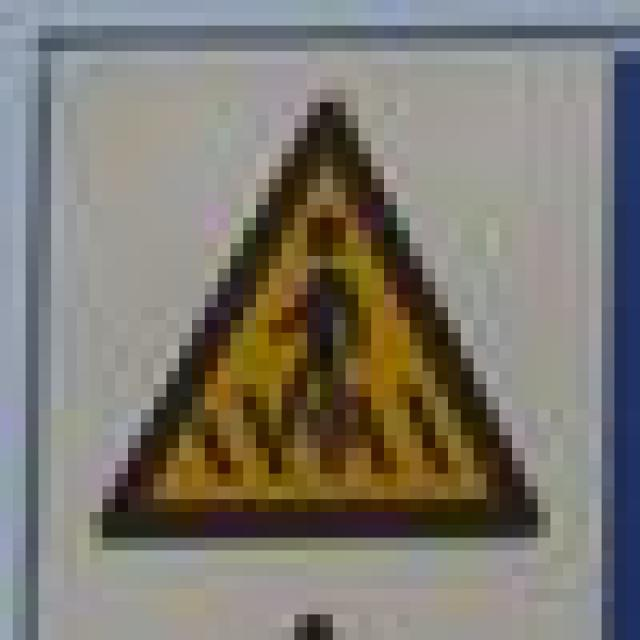pass_either_side: (76, 77, 538, 525)
